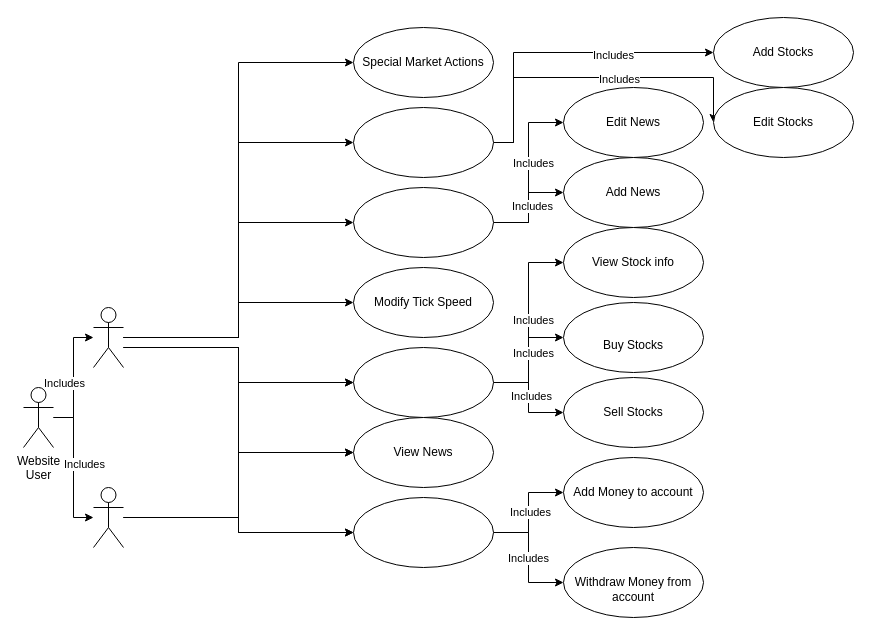
Some shapes in this 871 by 635 pixel diagram are drawn without their labels. Each missing label, with the centre of its shape:
"Admin" belongs at (108,337).
"Administrative News Actions" belongs at (423,222).
"Administrative Stock Options" belongs at (423,142).
"Money Actions" belongs at (423,532).
"Stock actions" belongs at (423,382).
"User" belongs at (108,517).
